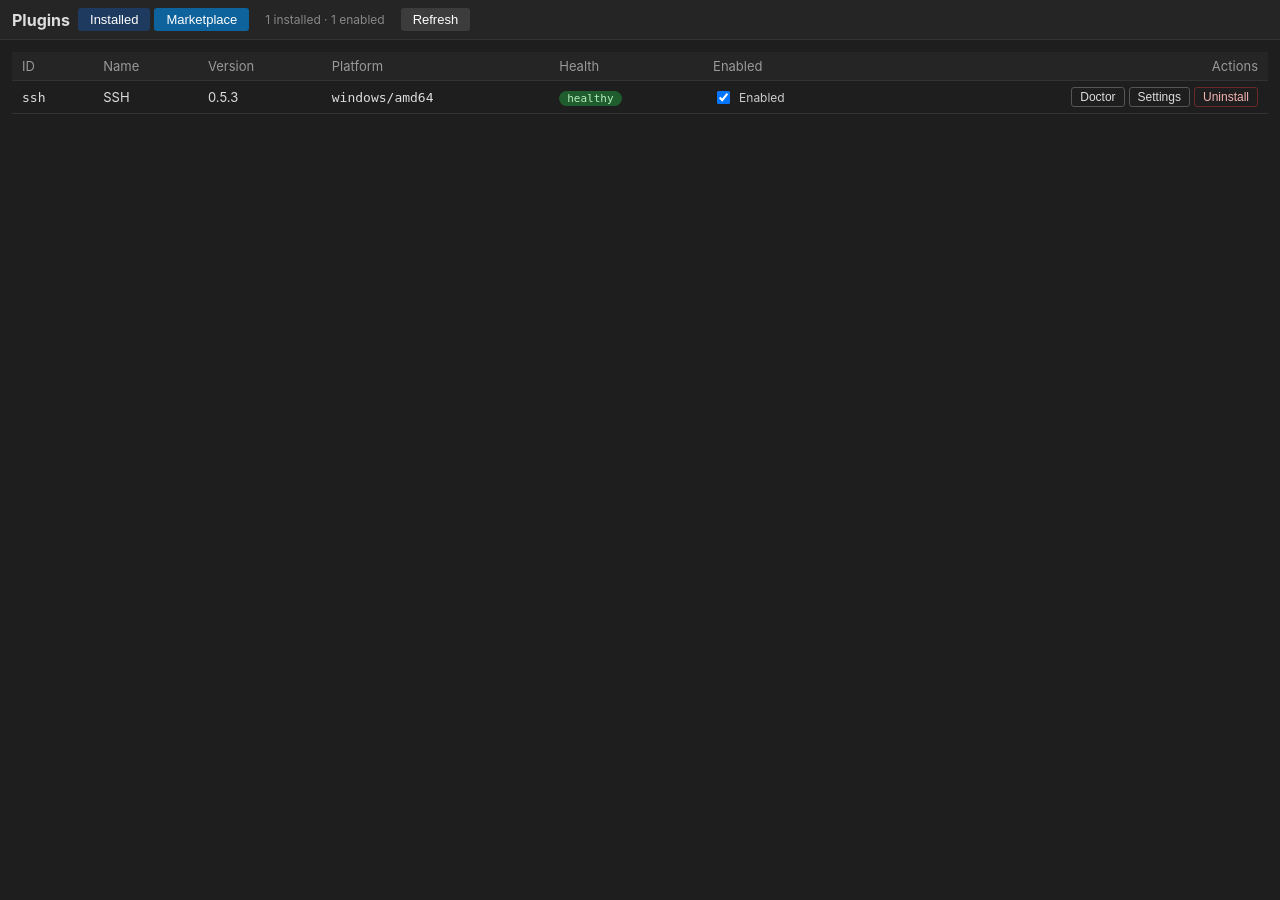
it: PluginsPage · SettingsDrawer › hides Save button when has_schema=false and shows plain hint
What coordinates should you click on to do the following:
click the button "Settings"
I would click on:
 (1159, 97)
Its box is [1129,87,1190,107].
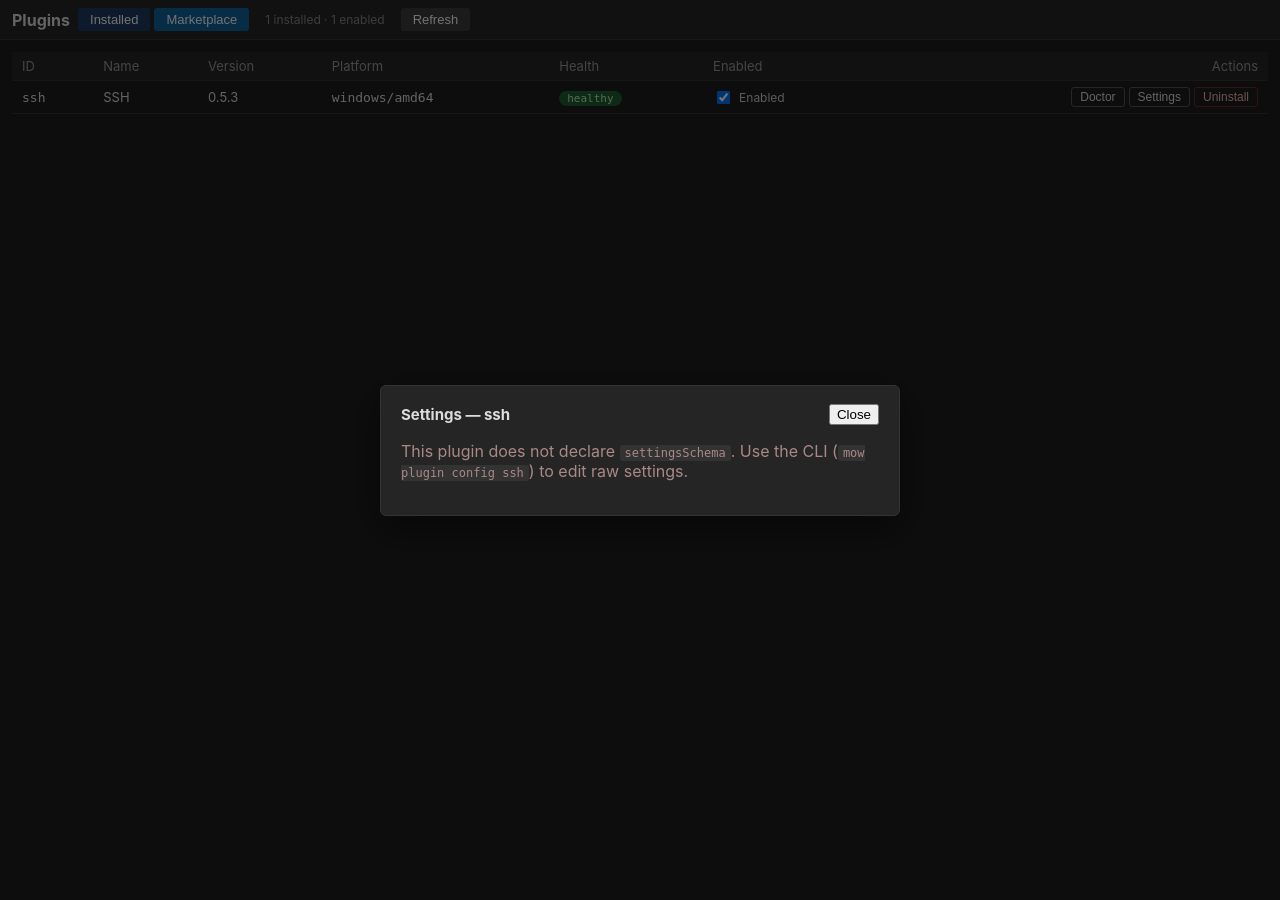
Expected: the text "does not declare" is shown, [401,440,620,460]
